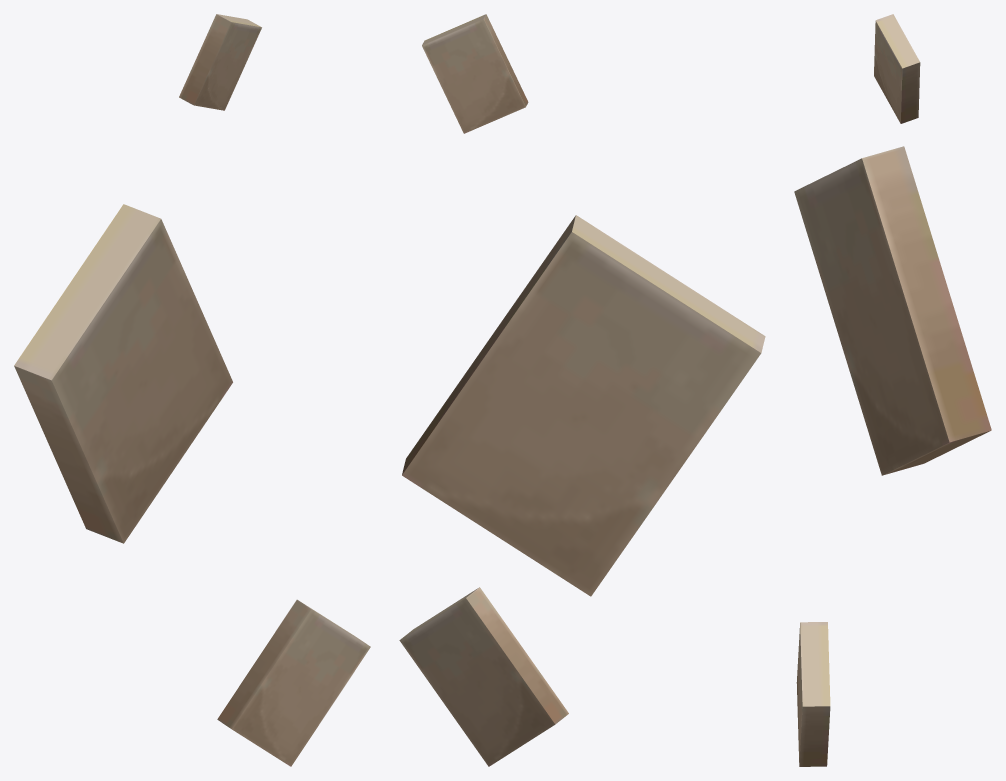
The model's file is ZhuCheng_JianZhu_07_01.fbx.
3 views of the same model, side by side, from view 1: azimuth 30°, elevation 25°; view 2: azimuth 150°, elevation 25°; view 3: azimuth 270°, elevation 25° (orthographic). The views are drawn at different scales.
Parts seen in each view (by area): view 1: ZhuCheng_JianZhu_07_01; view 2: ZhuCheng_JianZhu_07_01; view 3: ZhuCheng_JianZhu_07_01.
Boxes of the visible parts, <box> form: ZhuCheng_JianZhu_07_01: <box>14,14,370,766</box>; ZhuCheng_JianZhu_07_01: <box>399,14,765,766</box>; ZhuCheng_JianZhu_07_01: <box>794,14,991,766</box>.
Bounding box in the file's own units: 0.5931 × 1.21 × 0.2932.
